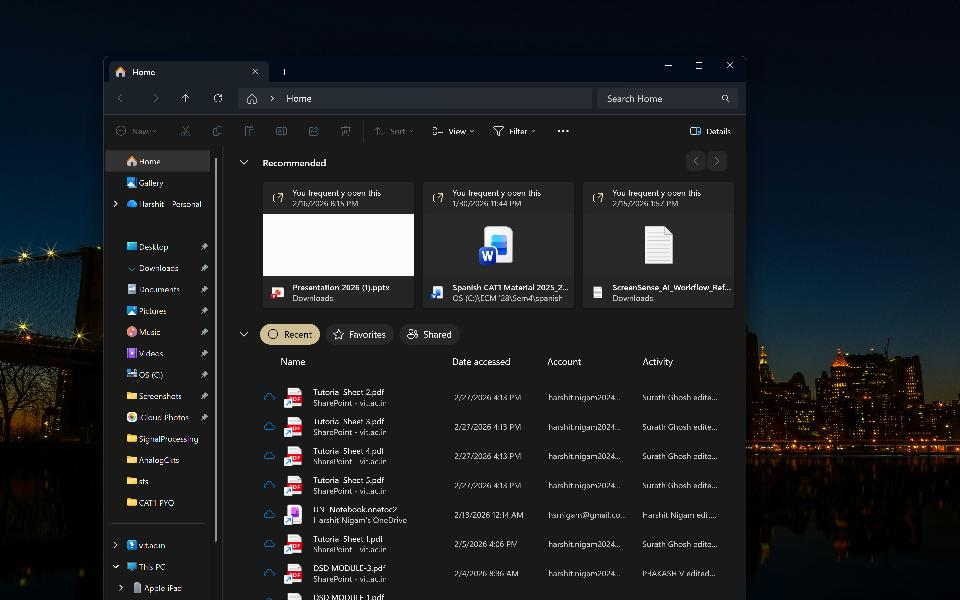close_button: (722, 57, 740, 76)
maximize_button: (686, 57, 713, 75)
minimize_button: (658, 57, 681, 75)
